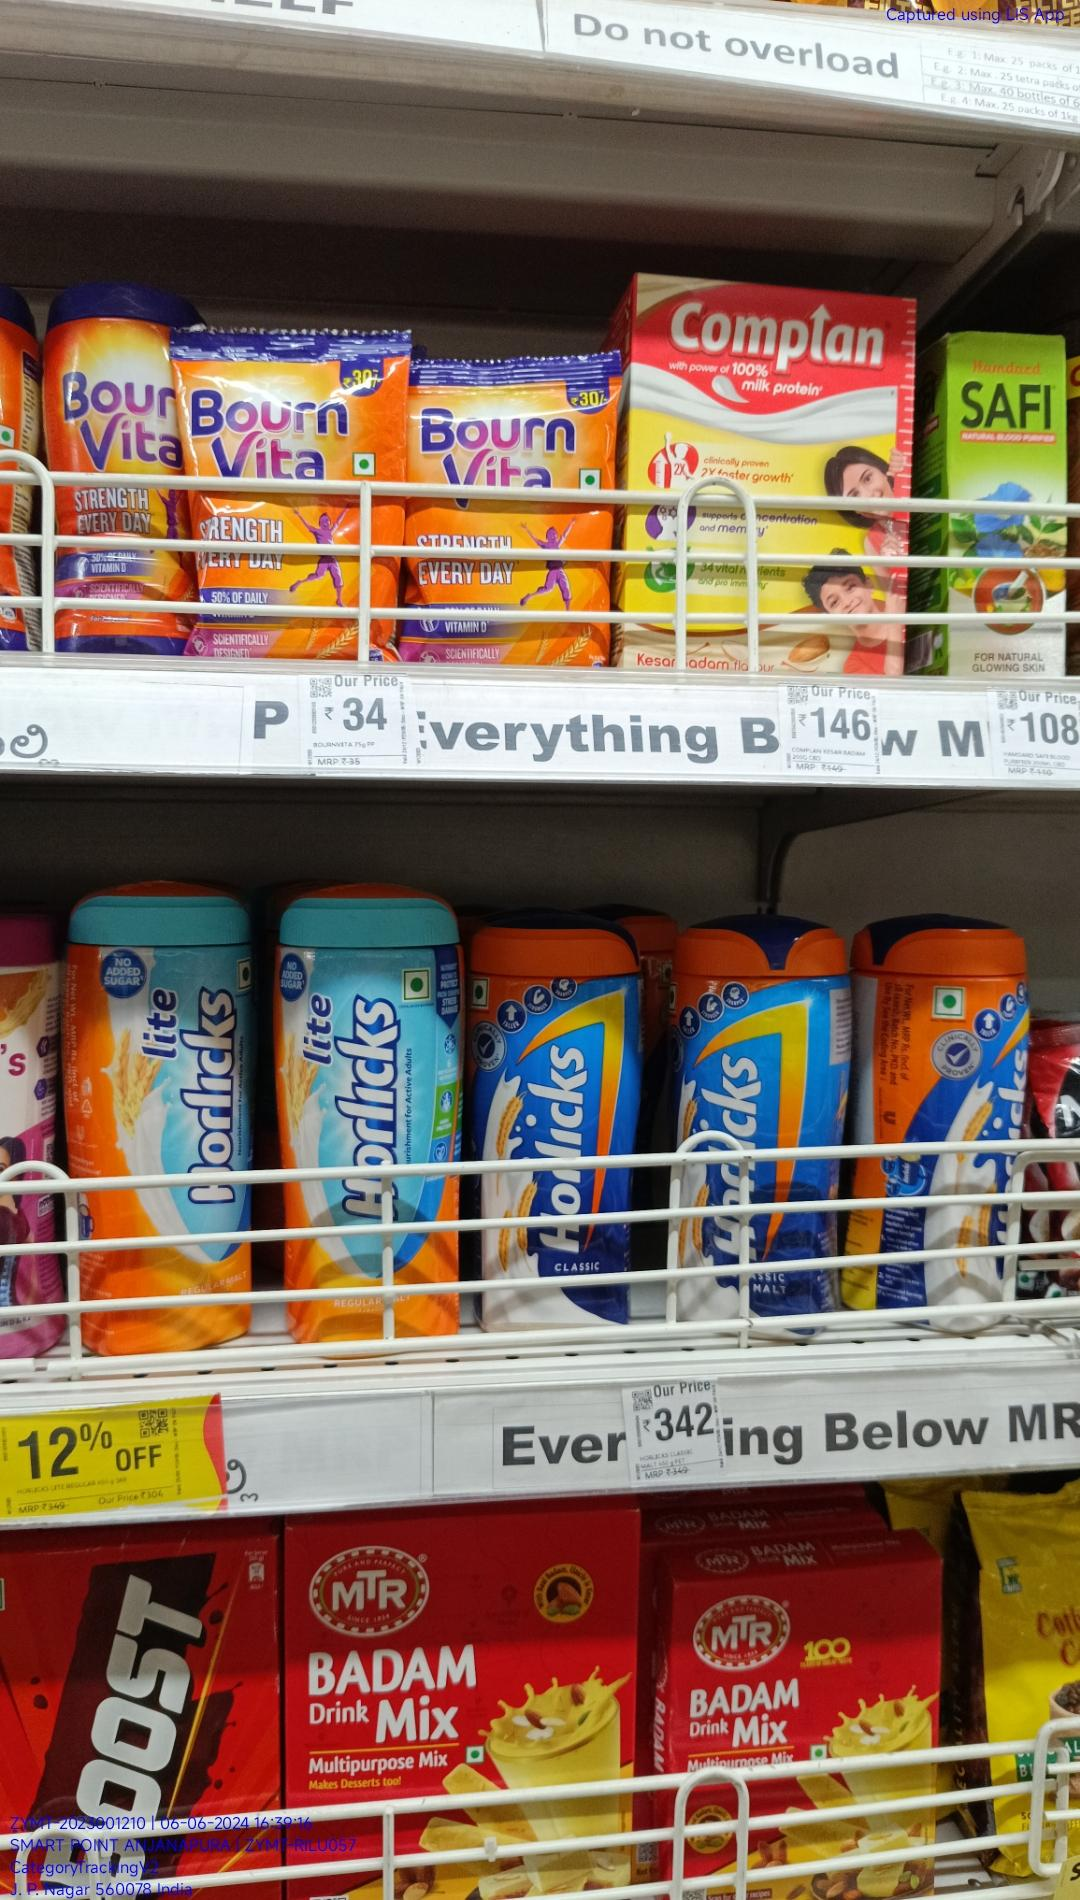BOURN_VITA_200_G_JAR: (43, 274, 181, 656)
BOURN_VITA_75_G_POUCH: (185, 331, 403, 662), (411, 356, 609, 669)
COMPLAN_KESAR_BADAM_200_GMS_PACK: (635, 284, 905, 680)
HORLICKS_LITE_REGULAR_MALT_500_GM_JAR: (69, 876, 249, 1361), (279, 896, 463, 1358)
HORLICK_CLASSIC_MALT_500_G_JAR: (669, 920, 828, 1335), (476, 924, 627, 1345), (887, 924, 1029, 1358)
